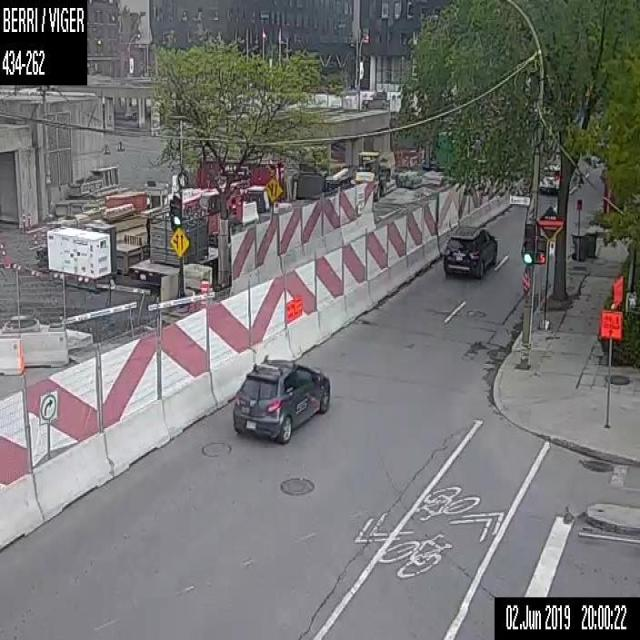construction: (0, 75, 528, 548), (599, 306, 623, 426), (199, 279, 208, 306), (189, 290, 197, 312)
vehicle: (231, 356, 331, 443), (441, 222, 497, 278), (536, 164, 560, 195)
